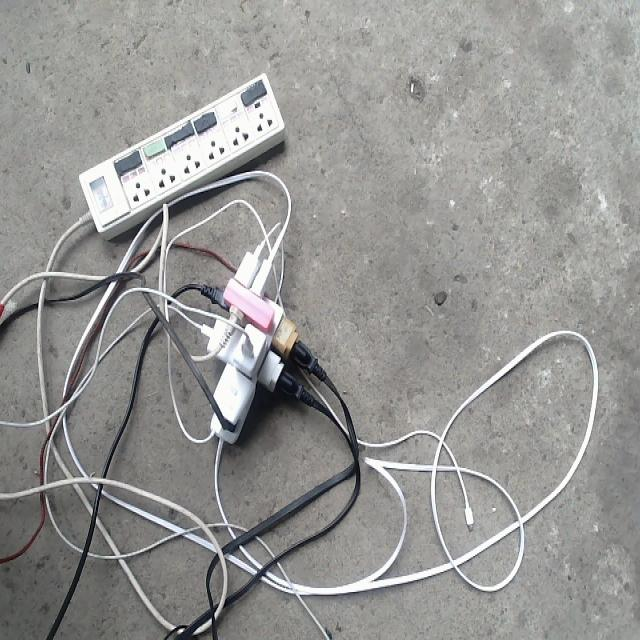-: (189, 236, 315, 444)
